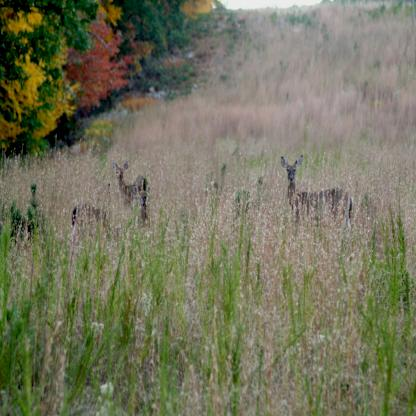Deer: (280, 154, 355, 264), (69, 181, 130, 264), (110, 160, 150, 228)
